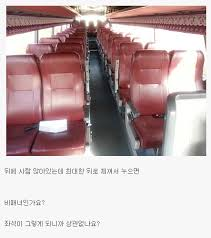seat: (130, 49, 168, 152)
